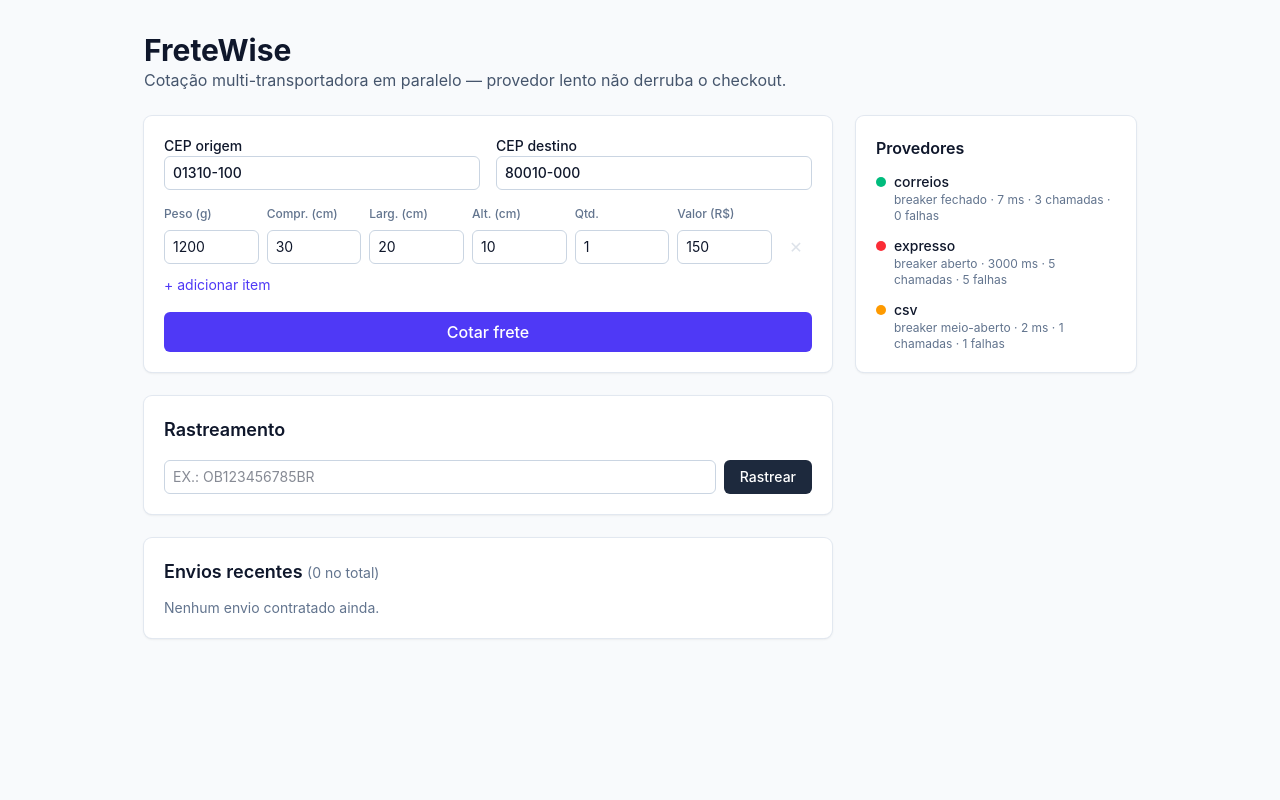
Test: <App /> › trata falha de rede não-Error
What coordinates should you click on to do the following:
click the button "Cotar frete"
I would click on:
 (488, 332)
Its box is [164,312,812,352].
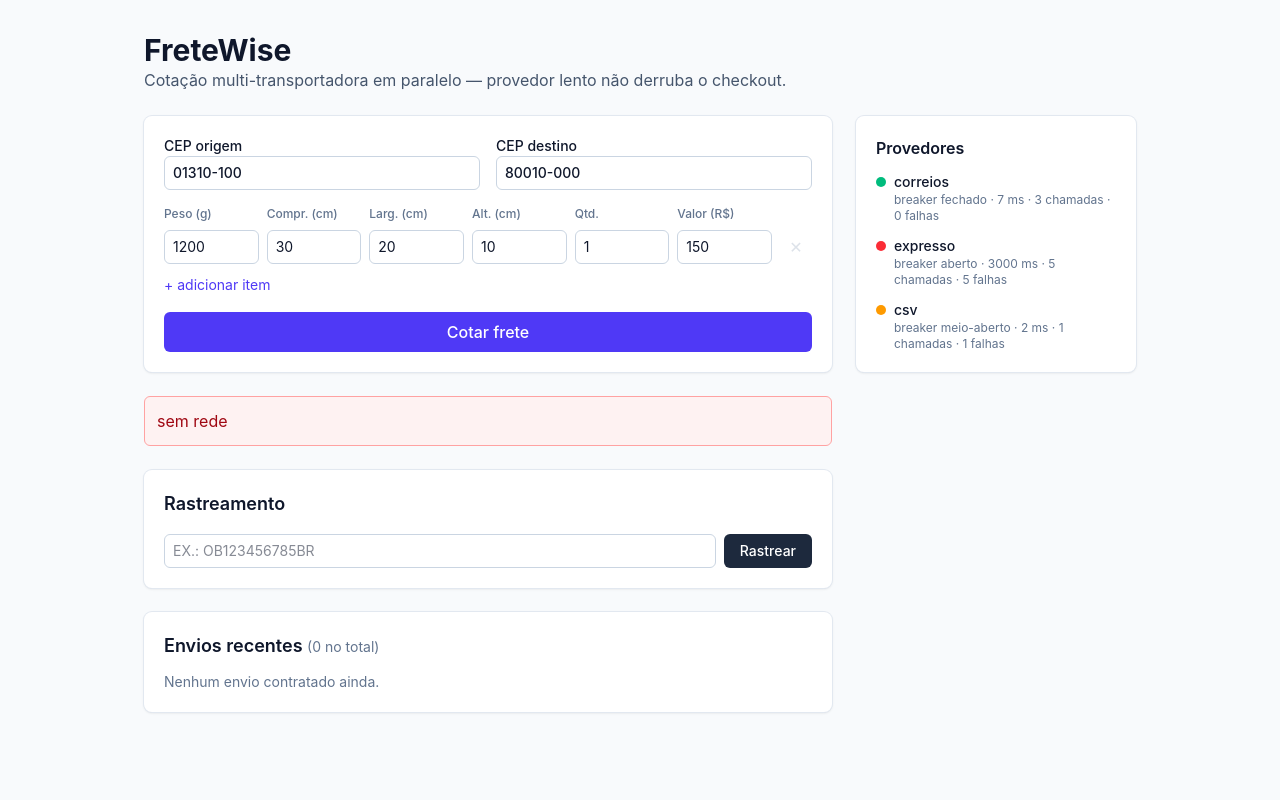
expect the text "sem rede" is shown: met, box [144,396,832,446]
